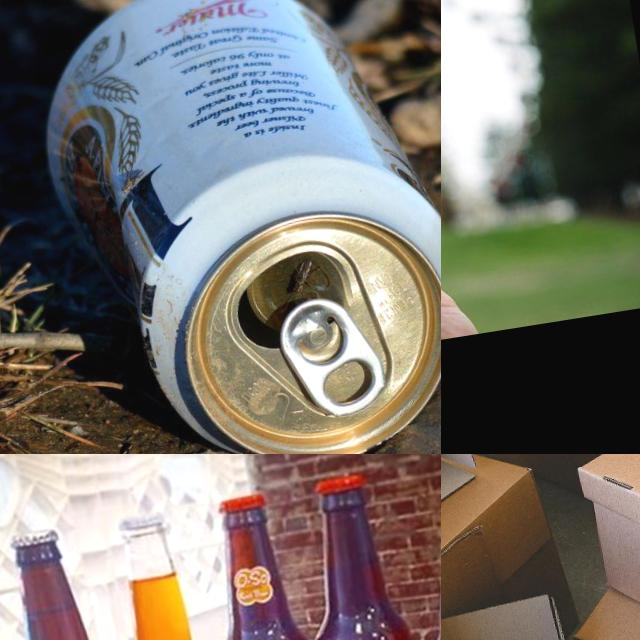aba de lata: (276, 290, 390, 424)
garrafa de vidro: (290, 469, 441, 640), (192, 485, 348, 640), (97, 505, 255, 640), (0, 518, 163, 640)
lata: (24, 0, 441, 454)
papelão: (441, 454, 584, 640), (570, 454, 640, 640), (563, 512, 640, 640), (441, 591, 570, 640)
